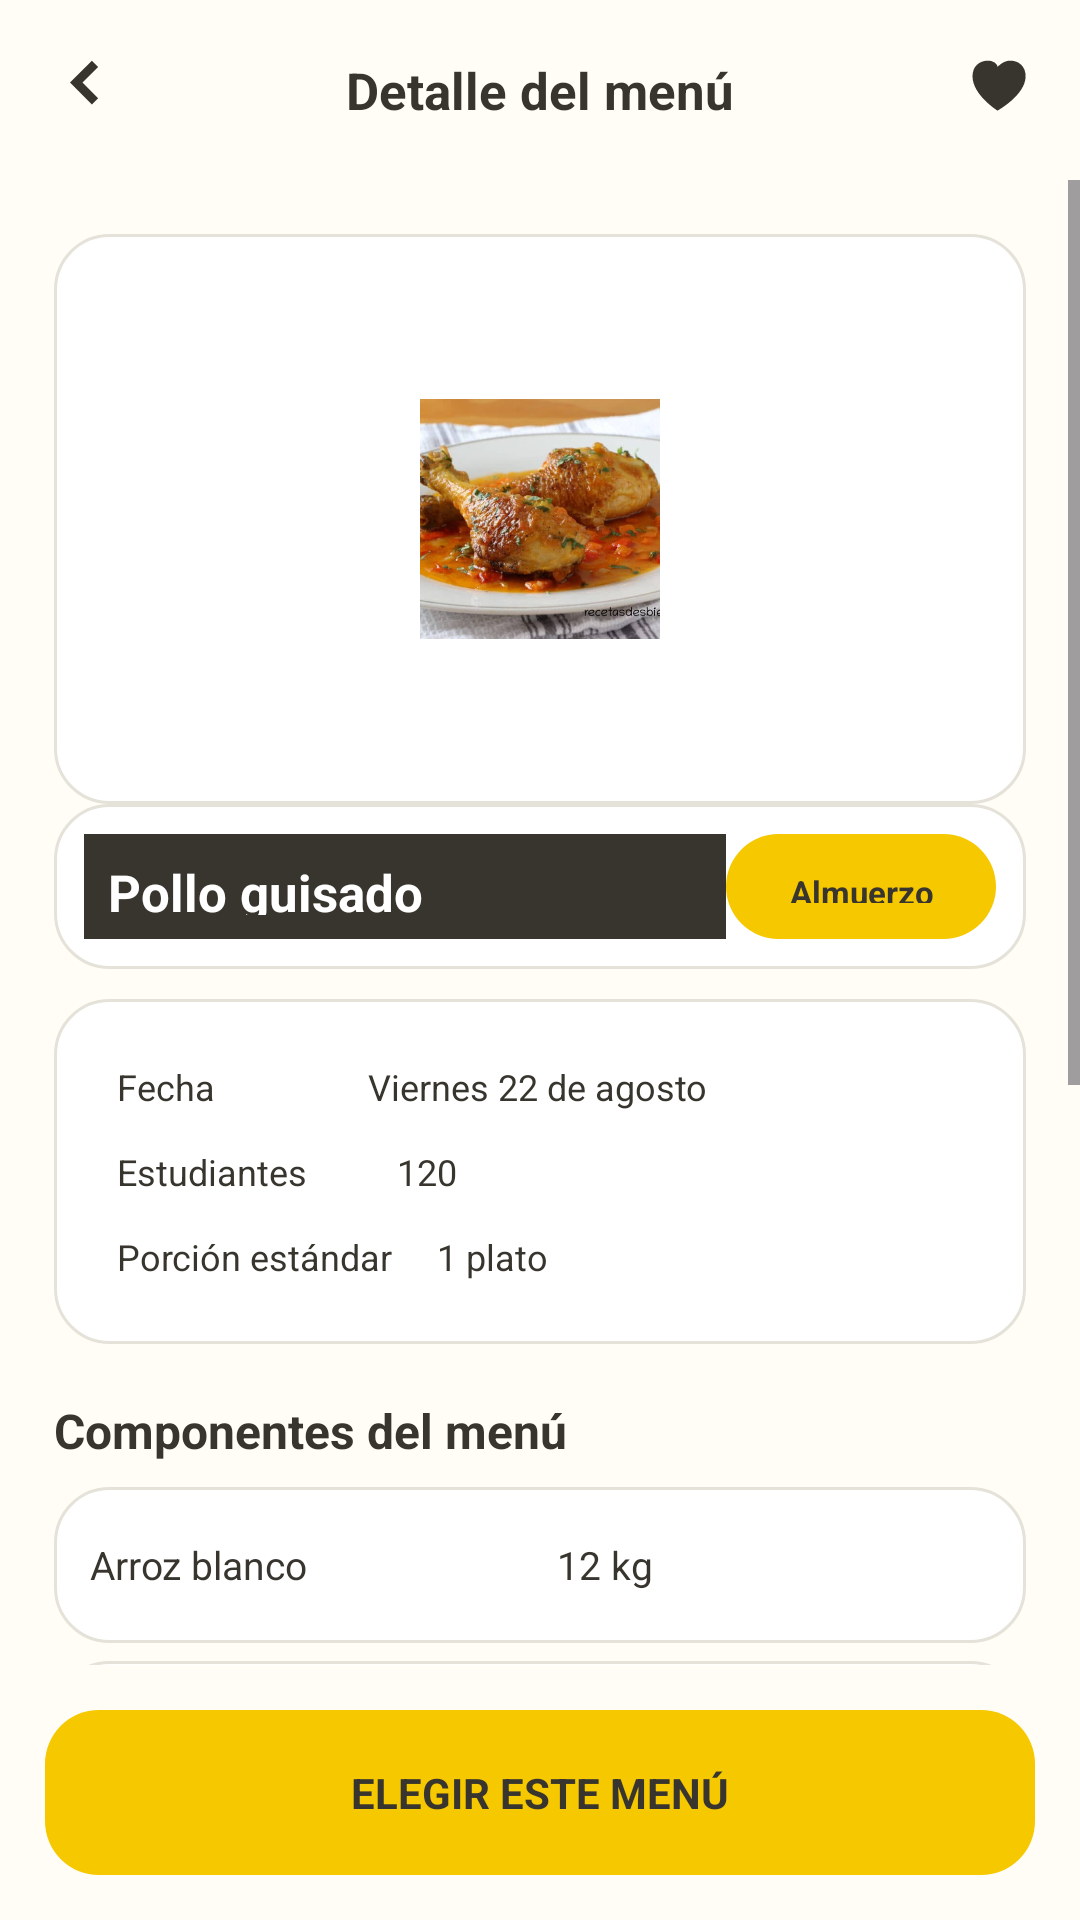

Icon bounding boxes for this 1080w x 1920h phone screenshot, format {"x1": x1, "y1": y1, "x2": x2, "y2": y2}:
corazon: {"x1": 972, "y1": 60, "x2": 1026, "y2": 111}
flecha izquierda: {"x1": 70, "y1": 61, "x2": 98, "y2": 105}
